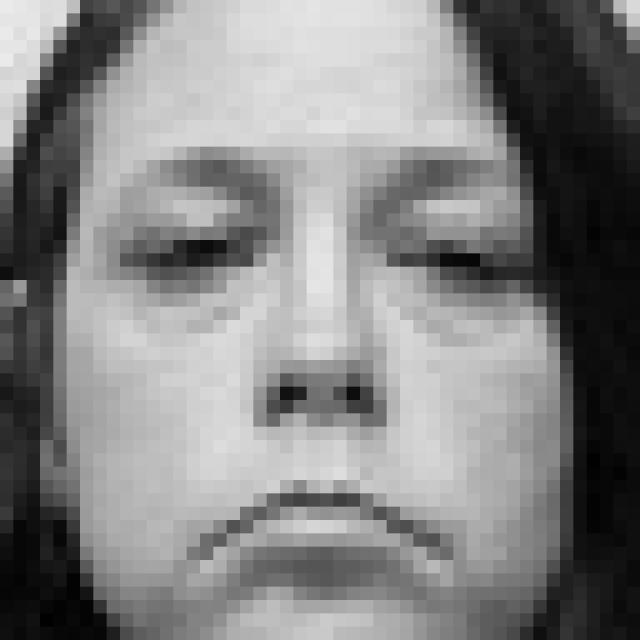sad: (102, 145, 545, 618)
